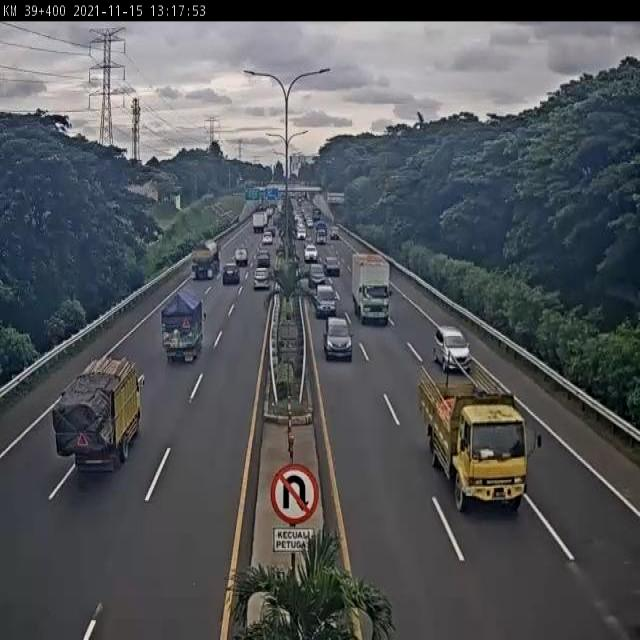Car: (434, 326, 472, 374), (322, 316, 354, 363), (314, 283, 340, 319), (254, 266, 271, 289), (222, 264, 240, 285), (309, 264, 325, 286), (324, 257, 341, 277), (256, 249, 271, 268), (234, 248, 248, 267), (304, 244, 318, 262)
Truck: (418, 361, 544, 515), (51, 357, 146, 474), (161, 289, 207, 364), (351, 252, 393, 327), (190, 238, 221, 280), (314, 220, 328, 246), (251, 212, 266, 234)
